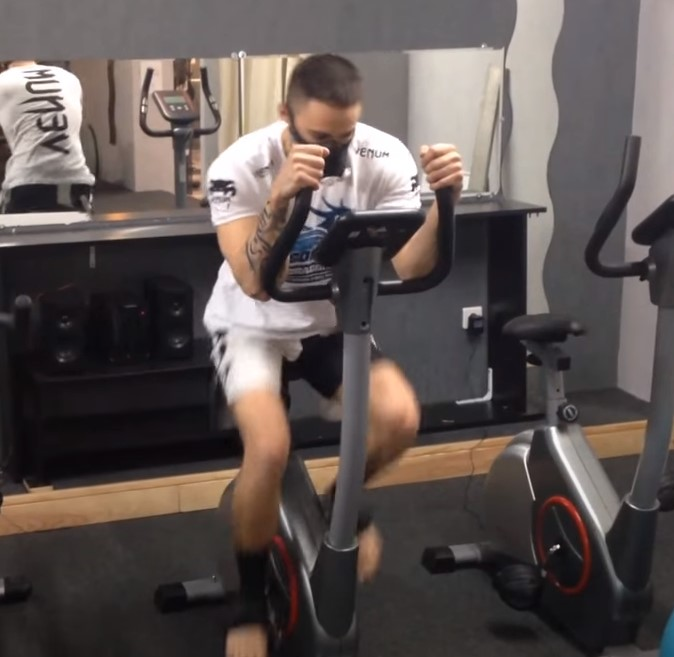face_with_mask: (278, 57, 363, 175)
